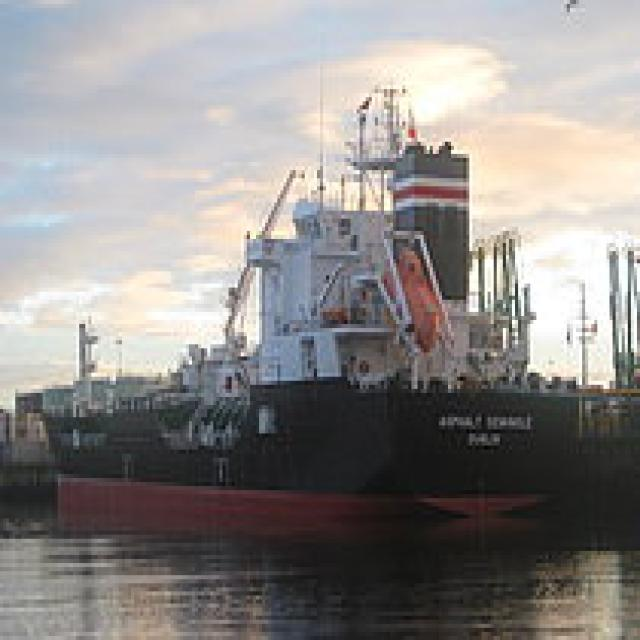Tanker: (34, 81, 579, 518)
